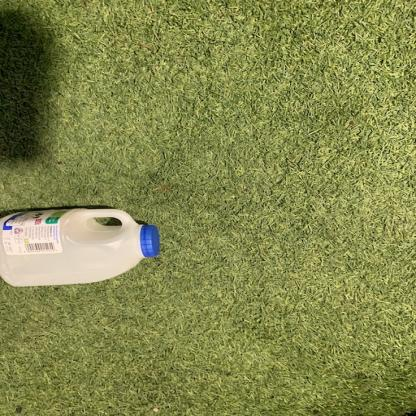trash: (0, 208, 162, 288)
